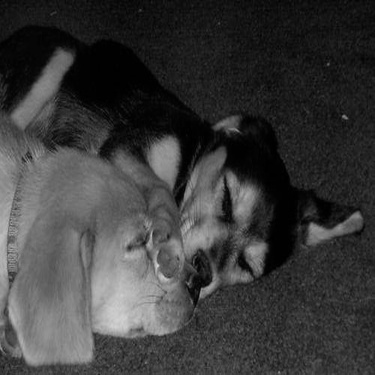dog: (5, 20, 368, 307), (1, 106, 199, 371)
